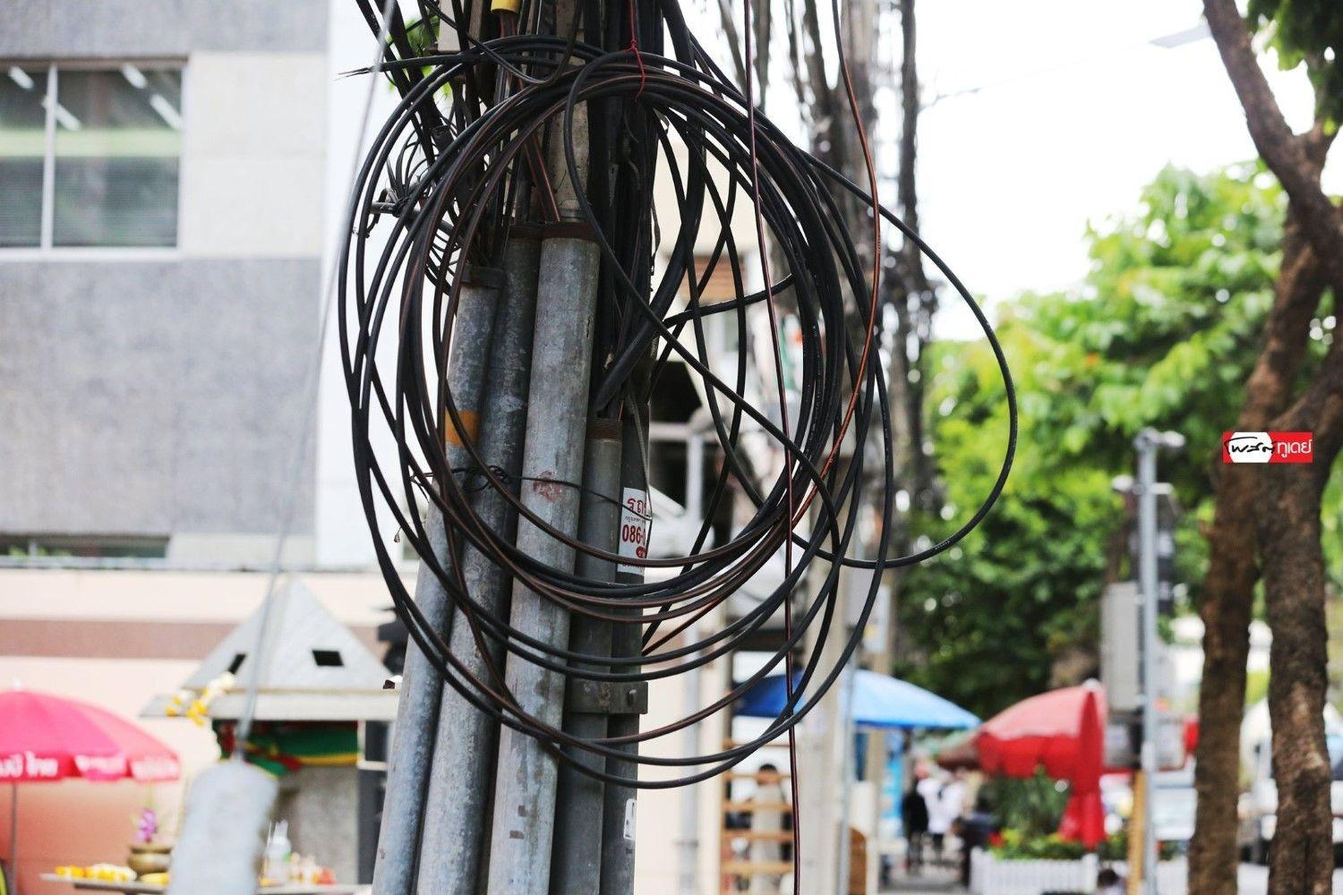wires-only: (376, 63, 1014, 801)
